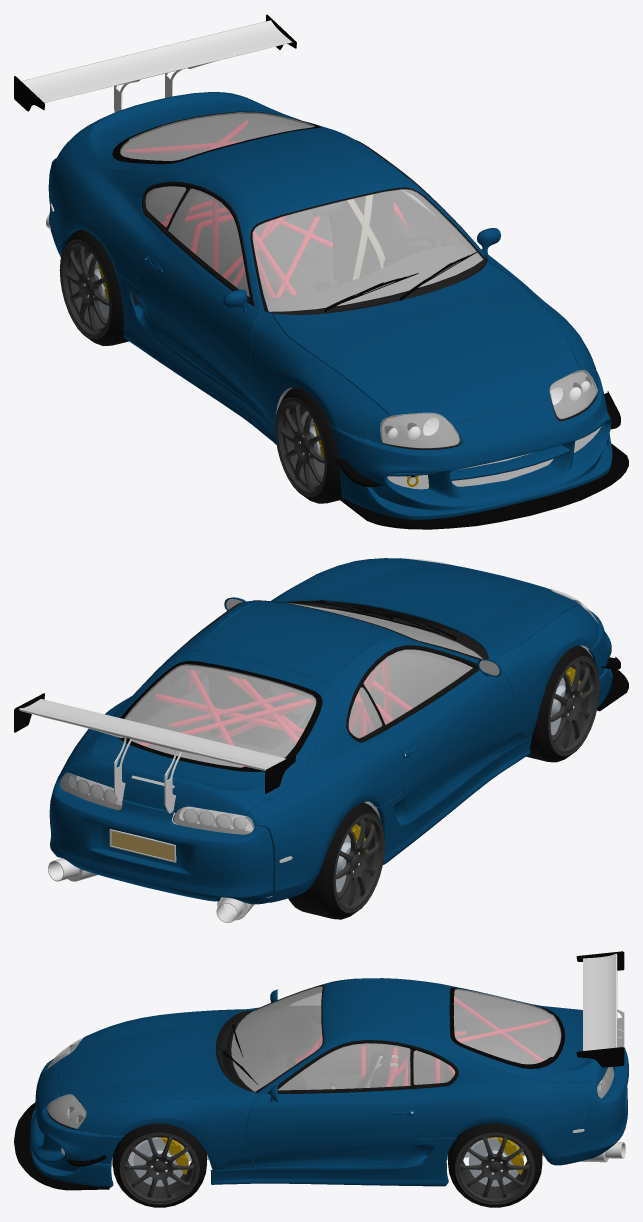
Rendered from uploads_files_2233891_Toyota+Supra+Game+Ready.fbx.
3 views of the same model, one above another, from view 1: azimuth 30°, elevation 25°; view 2: azimuth 150°, elevation 25°; view 3: azimuth 270°, elevation 25° (orthographic). The views are drawn at different scales.
Visible parts, largest first — view 1: Sheilds, Hood, Main_Body, Front_Bumper, Cabin, Doors, Front_Sides, Wing, Trunk, Aero_Assembly, Skirts, Roll Bars (+15 smaller); view 2: Main_Body, Sheilds, Rear_Bumper, Hood, Trunk, Doors, Cabin, Front_Sides, Roll Bars, Wing, Skirts, Rim_RR (+18 smaller); view 3: Main_Body, Sheilds, Hood, Doors, Cabin, Front_Sides, Skirts, Front_Bumper, Trunk, Rim_FL, Rim_RL, Wing (+16 smaller).
Boxes of the visible parts, left/top/right/bottom form: Sheilds: left=120, top=112, right=483, bottom=311; Hood: left=273, top=261, right=579, bottom=423; Main_Body: left=50, top=109, right=485, bottom=310; Front_Bumper: left=330, top=370, right=612, bottom=520; Cabin: left=123, top=119, right=485, bottom=311; Doors: left=137, top=233, right=498, bottom=403; Front_Sides: left=250, top=255, right=598, bottom=444; Wing: left=21, top=20, right=292, bottom=102; Trunk: left=67, top=92, right=335, bottom=171; Aero_Assembly: left=335, top=391, right=628, bottom=529; Skirts: left=115, top=270, right=276, bottom=444; Roll Bars: left=126, top=120, right=408, bottom=298; Main_Body: left=59, top=600, right=478, bottom=902; Sheilds: left=124, top=603, right=482, bottom=767; Rear_Bumper: left=49, top=776, right=273, bottom=904; Hood: left=277, top=558, right=579, bottom=656; Trunk: left=69, top=650, right=337, bottom=815; Doors: left=387, top=670, right=514, bottom=817; Cabin: left=131, top=609, right=481, bottom=766; Front_Sides: left=270, top=564, right=598, bottom=752; Roll Bars: left=138, top=659, right=412, bottom=767; Wing: left=19, top=699, right=286, bottom=770; Skirts: left=376, top=735, right=532, bottom=864; Rim_RR: left=333, top=813, right=384, bottom=913; Main_Body: left=258, top=978, right=597, bottom=1165; Sheilds: left=231, top=986, right=560, bottom=1091; Hood: left=58, top=1009, right=248, bottom=1108; Doors: left=245, top=1089, right=422, bottom=1167; Cabin: left=232, top=1005, right=559, bottom=1154; Front_Sides: left=77, top=1007, right=259, bottom=1170; Skirts: left=210, top=1138, right=456, bottom=1186; Front_Bumper: left=30, top=1057, right=124, bottom=1187; Trunk: left=436, top=984, right=607, bottom=1084; Rim_FL: left=119, top=1132, right=199, bottom=1204; Rim_RL: left=455, top=1132, right=535, bottom=1204; Wing: left=583, top=953, right=617, bottom=1050.
Bounding box in the file's own units: 242 × 171 × 595.
